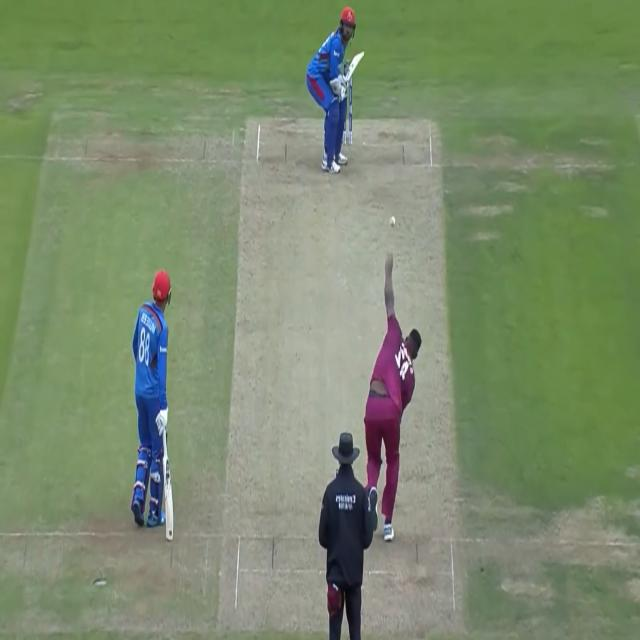ball: (383, 215, 401, 236)
